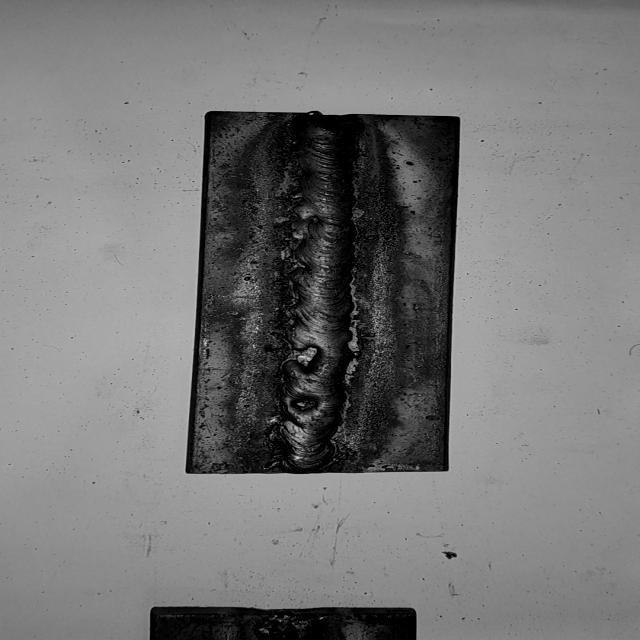Defect: (246, 338, 390, 412)
Welding Line: (270, 116, 360, 470)
Workpiece: (177, 104, 466, 476)
